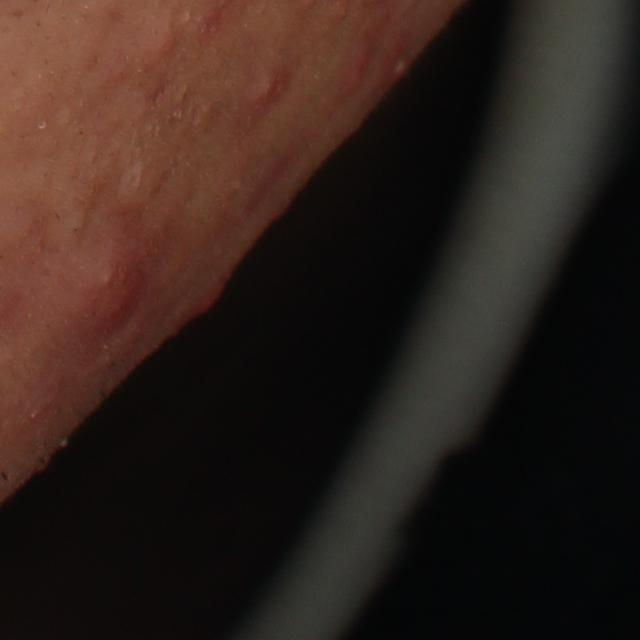papule: (42, 235, 152, 363), (188, 270, 233, 320), (344, 33, 374, 93), (147, 26, 179, 66)
pustule: (388, 48, 411, 82)
